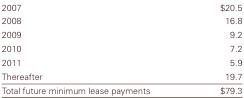table: (0, 1, 241, 94)
table column: (0, 1, 184, 94), (184, 1, 241, 94)
table row: (0, 13, 241, 27), (0, 40, 241, 54), (0, 54, 241, 68), (0, 68, 241, 82), (0, 27, 241, 40), (0, 1, 241, 13), (0, 82, 241, 94)
